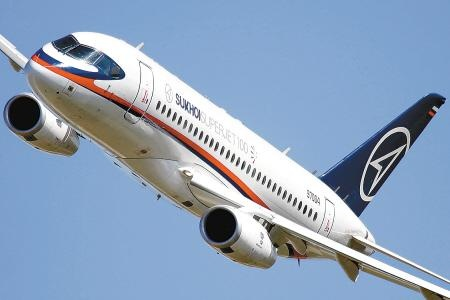airplane: (1, 23, 450, 289)
